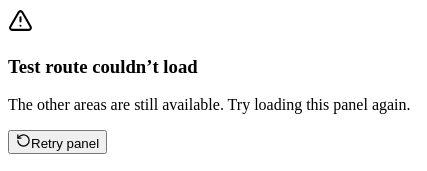
Scenario: retries a rejected lazy import with a fresh loader
Click the button "Retry panel".
click(58, 142)  # box left=8, top=130, right=107, bottom=154
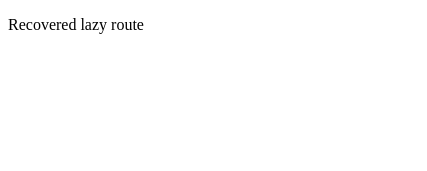
Expected: the text "Recovered lazy route" is shown, left=8, top=16, right=144, bottom=33
